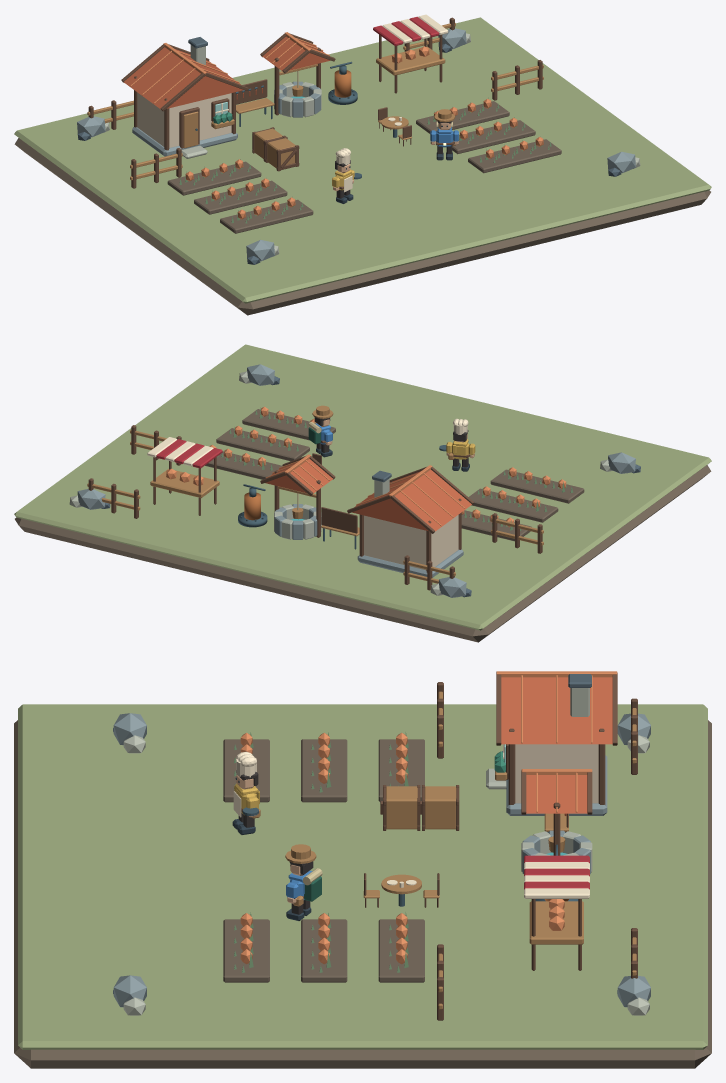
File: world-farm.glb
3 renders of one model, top to bottom at view 1: azimuth 30°, elevation 25°; view 2: azimuth 150°, elevation 25°; view 3: azimuth 270°, elevation 25°, orthographic. The views are drawn at different scales.
Parts seen in each view (by area): view 1: terrain-top, terrain-stratum, cottage-roof.001, plaster-walls.001, raised-bed, raised-bed.002, raised-bed.001, raised-bed.003, raised-bed.004, raised-bed.005, well-roof.001, counter.001 (+4 smaller); view 2: terrain-top, terrain-stratum, cottage-roof.001, plaster-walls.001, raised-bed, raised-bed.004, raised-bed.001, raised-bed.003, well-roof.001, raised-bed.005, counter.001, foundation.001 (+6 smaller); view 3: terrain-top, terrain-stratum, cottage-roof.001, plaster-walls.001, raised-bed.003, raised-bed.005, raised-bed.001, raised-bed.004, well-roof.001, raised-bed.002, counter.001, raised-bed (+8 smaller).
Part boxes in pixels (bbox=[...]): terrain-top: bbox=[14, 17, 711, 303]; terrain-stratum: bbox=[14, 138, 710, 315]; cottage-roof.001: bbox=[123, 47, 243, 109]; plaster-walls.001: bbox=[137, 92, 231, 147]; raised-bed: bbox=[220, 199, 313, 233]; raised-bed.002: bbox=[167, 161, 261, 195]; raised-bed.001: bbox=[194, 180, 287, 214]; raised-bed.003: bbox=[468, 139, 561, 173]; raised-bed.004: bbox=[452, 120, 535, 154]; raised-bed.005: bbox=[416, 101, 509, 133]; well-roof.001: bbox=[262, 36, 330, 70]; counter.001: bbox=[376, 46, 445, 75]; terrain-top: bbox=[14, 344, 711, 630]; terrain-stratum: bbox=[15, 465, 711, 642]; cottage-roof.001: bbox=[352, 469, 471, 531]; plaster-walls.001: bbox=[364, 515, 458, 570]; raised-bed: bbox=[490, 469, 584, 503]; raised-bed.004: bbox=[216, 428, 309, 461]; raised-bed.001: bbox=[468, 488, 558, 522]; raised-bed.003: bbox=[242, 409, 335, 440]; well-roof.001: bbox=[265, 459, 333, 493]; raised-bed.005: bbox=[205, 451, 282, 479]; counter.001: bbox=[150, 468, 219, 497]; foundation.001: bbox=[357, 549, 463, 577]; terrain-top: bbox=[18, 704, 707, 1049]; terrain-stratum: bbox=[14, 720, 711, 1068]; cottage-roof.001: bbox=[501, 677, 612, 744]; plaster-walls.001: bbox=[515, 744, 598, 803]; raised-bed.003: bbox=[223, 919, 269, 982]; raised-bed.005: bbox=[378, 919, 424, 982]; raised-bed.001: bbox=[301, 739, 347, 802]; raised-bed.004: bbox=[301, 919, 347, 982]; well-roof.001: bbox=[526, 775, 587, 813]; raised-bed.002: bbox=[378, 739, 424, 801]; counter.001: bbox=[529, 901, 583, 944]; raised-bed: bbox=[223, 739, 269, 802].
Bounding box in the file's own units: 21 × 4.52 × 18.
